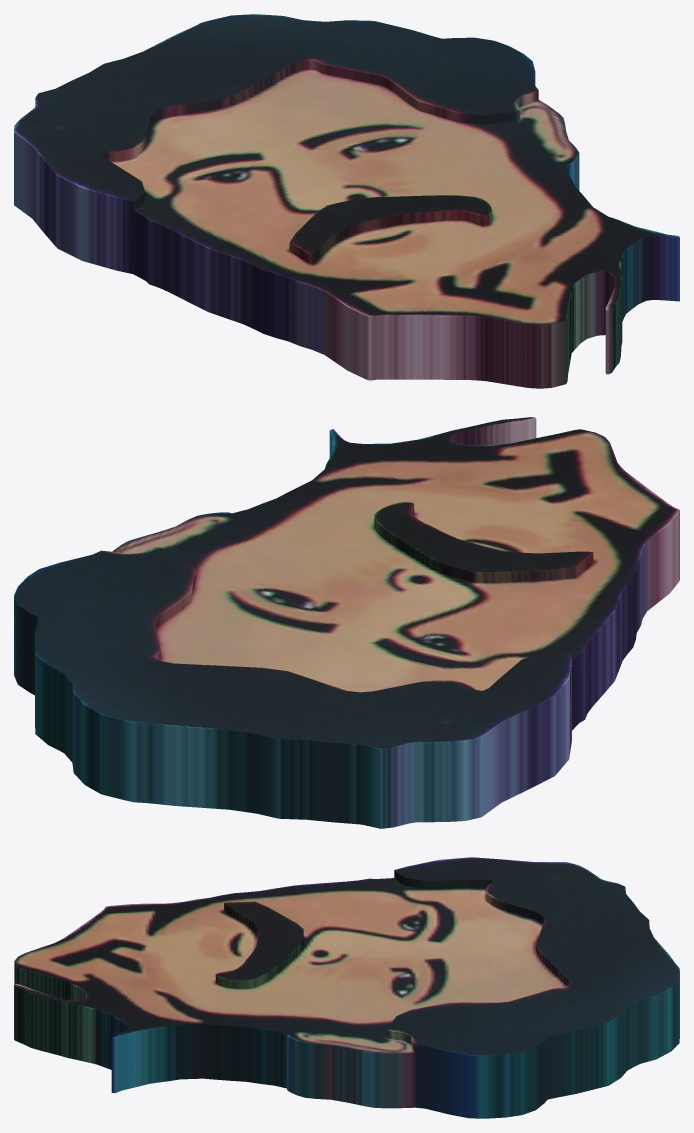
File: Mural setuan 2-5.dae
3 views of the same model, one above another, from view 1: azimuth 30°, elevation 25°; view 2: azimuth 150°, elevation 25°; view 3: azimuth 270°, elevation 25° (orthographic). The views are drawn at different scales.
Visible parts, largest first — view 1: SketchUp (×2); view 2: SketchUp (×2); view 3: SketchUp (×2).
Part boxes in pixels (x1,y1,x2,y2): SketchUp (×2): [14, 14, 679, 388]; SketchUp (×2): [14, 417, 679, 828]; SketchUp (×2): [14, 857, 679, 1118].
Bounding box in the file's own units: 26.83 × 37.97 × 3.94.
Materials: 1 (1 with a texture image).
